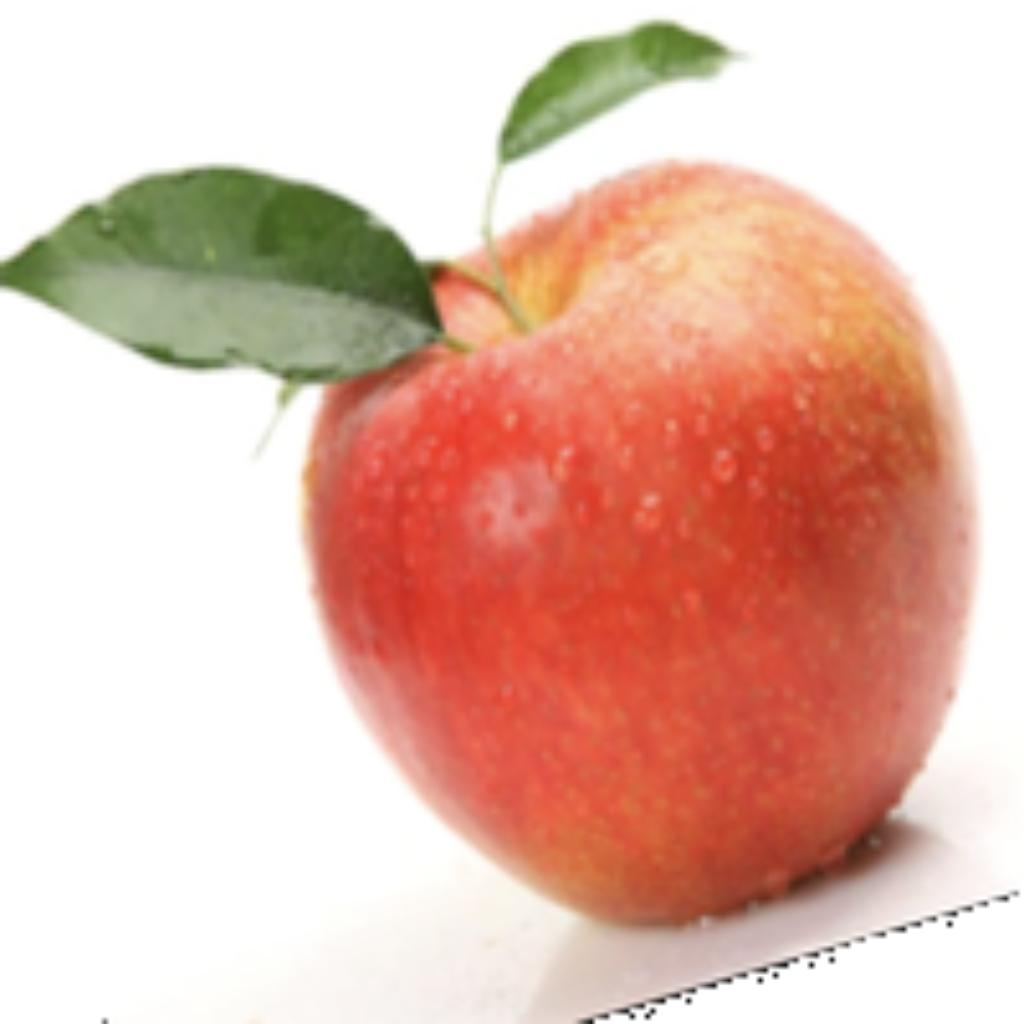apple: (0, 10, 1019, 1019)
